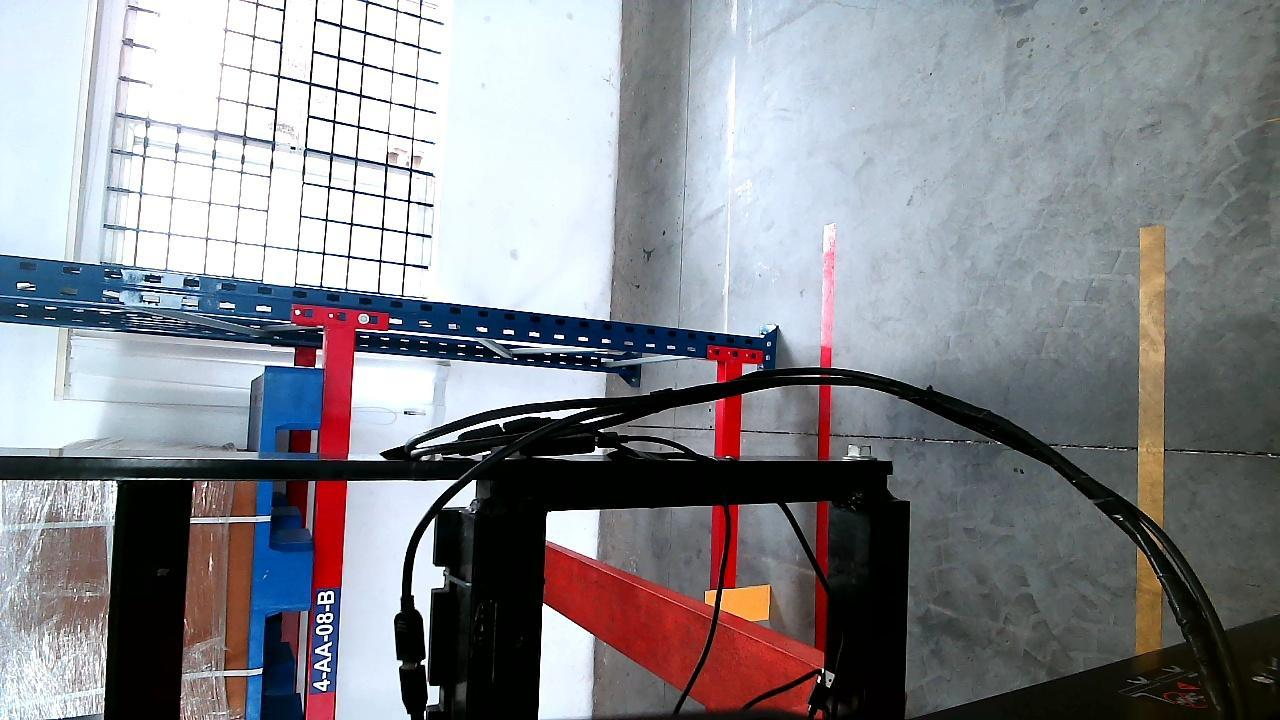red_line: (813, 224, 835, 649)
yellow_line: (1138, 212, 1167, 659)
